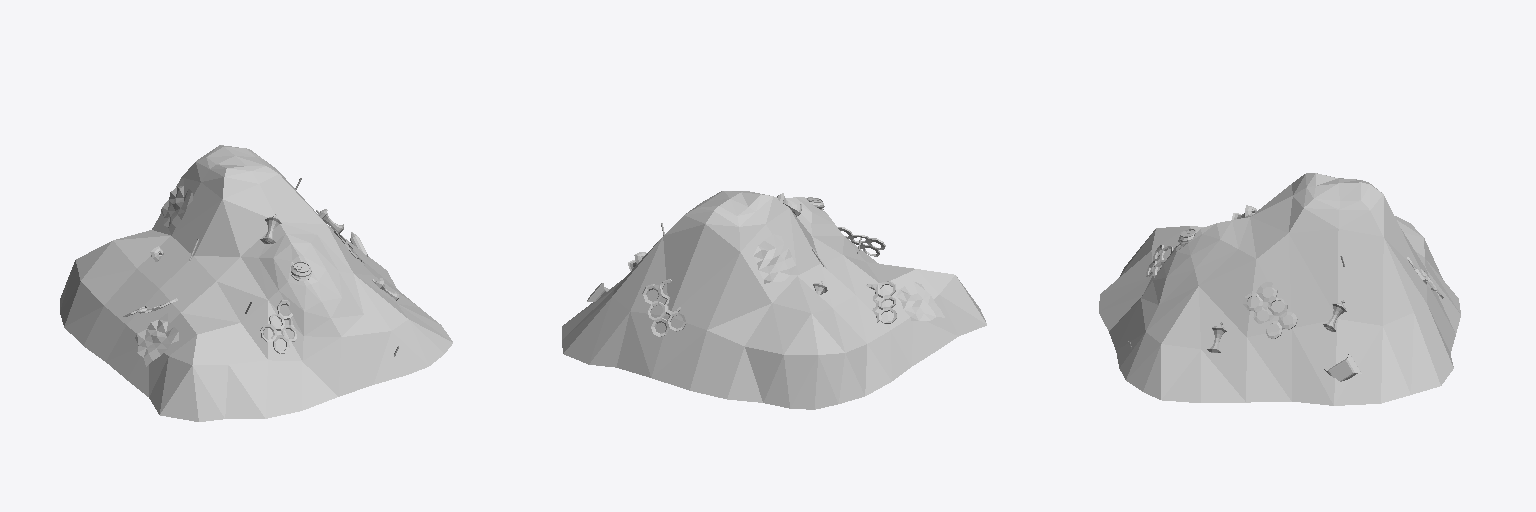
Rendered from garbageMassive.obj.
3 renders of one model, left to right at view 1: azimuth 30°, elevation 25°; view 2: azimuth 150°, elevation 25°; view 3: azimuth 270°, elevation 25°, orthographic.
Parts seen in each view (by area): view 1: Garbage_Pile_Surrender_Cylinder.031; view 2: Garbage_Pile_Surrender_Cylinder.031; view 3: Garbage_Pile_Surrender_Cylinder.031.
Part boxes in pixels (x1,y1,x2,y2): Garbage_Pile_Surrender_Cylinder.031: (60, 145, 452, 421); Garbage_Pile_Surrender_Cylinder.031: (562, 191, 986, 409); Garbage_Pile_Surrender_Cylinder.031: (1099, 173, 1460, 405).
Size of the model in its own units: 8.83 by 4.15 by 8.78.